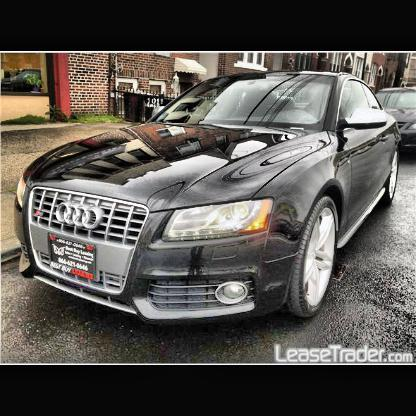Audi S5 Coupe 2012: (15, 73, 400, 329)
